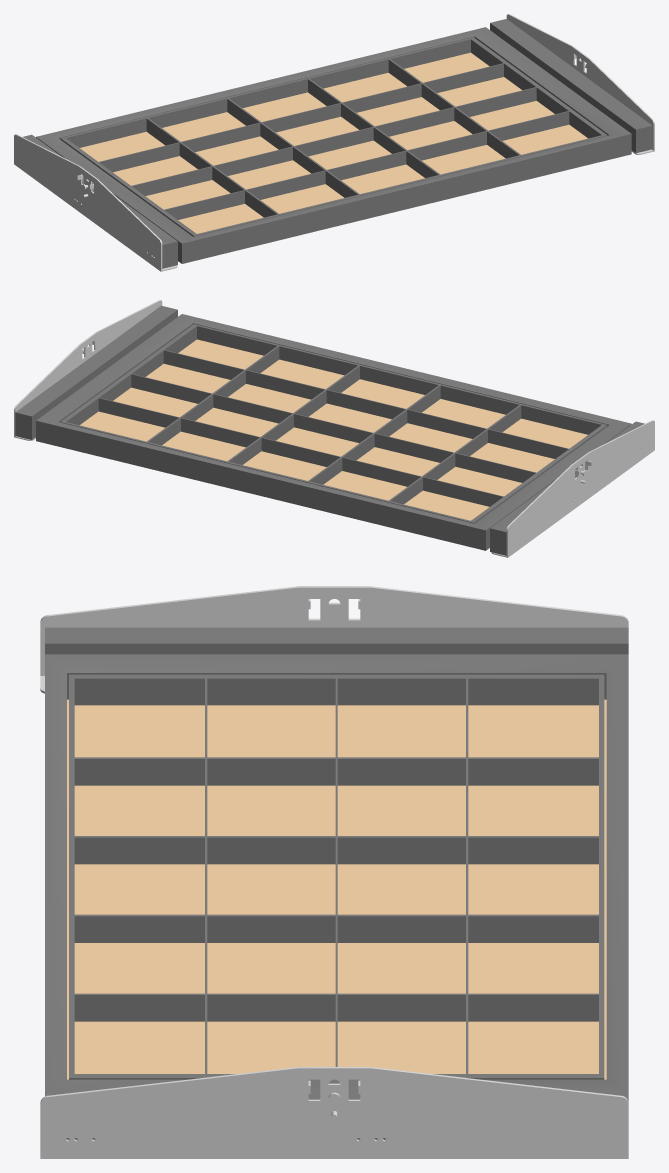
Rendered from JP-JEWELRY-BOX.glb.
3 views of the same model, one above another, from view 1: azimuth 30°, elevation 25°; view 2: azimuth 150°, elevation 25°; view 3: azimuth 270°, elevation 25° (orthographic). The views are drawn at different scales.
Visible parts, largest first — view 1: Geom3D (×2), Geom3D_组件#6; view 2: Geom3D (×2), Geom3D_组件#6; view 3: Geom3D (×2), Geom3D_组件#6.
Part boxes in pixels (x1,y1,x2,y2): Geom3D (×2): [23, 19, 652, 268]; Geom3D_组件#6: [14, 14, 654, 271]; Geom3D (×2): [15, 305, 644, 555]; Geom3D_组件#6: [14, 300, 654, 557]; Geom3D (×2): [45, 627, 628, 1139]; Geom3D_组件#6: [40, 586, 628, 1158].
Size of the model in its own units: 0.985 by 0.085 by 0.5.
